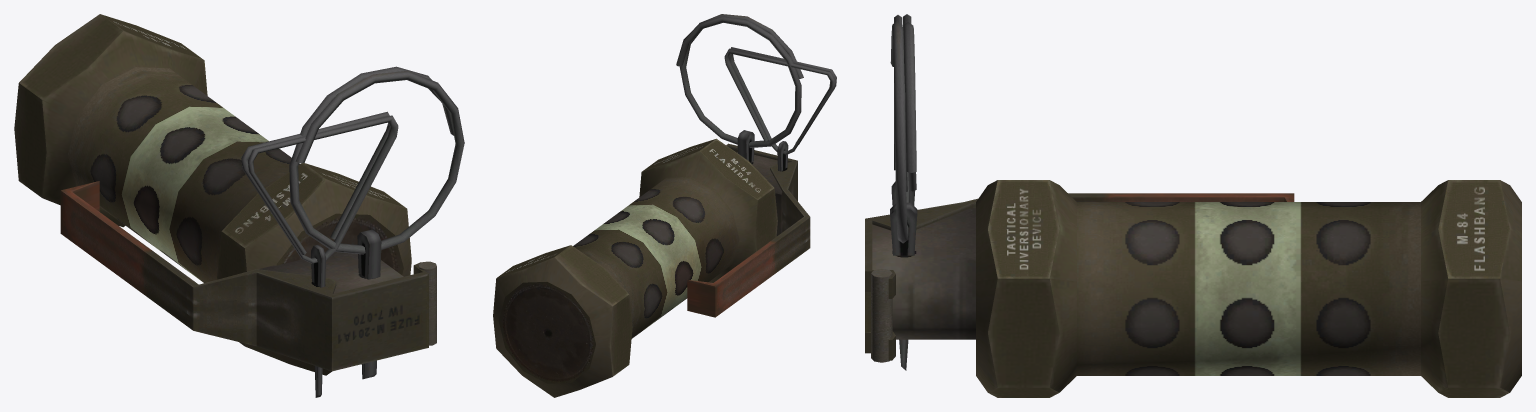
Rendered from viewmodel_m84_LOD0.obj.
3 renders of one model, left to right at view 1: azimuth 30°, elevation 25°; view 2: azimuth 150°, elevation 25°; view 3: azimuth 270°, elevation 25°, orthographic. The views are drawn at different scales.
Visible parts, largest first — view 1: mtl_weapon_m84; view 2: mtl_weapon_m84; view 3: mtl_weapon_m84.
Boxes of the visible parts, x1=… form: mtl_weapon_m84: x1=14, y1=14, x2=464, y2=397; mtl_weapon_m84: x1=493, y1=14, x2=836, y2=397; mtl_weapon_m84: x1=865, y1=14, x2=1521, y2=397.
Bounding box in the file's own units: 5.98 × 8.4 × 13.49.
